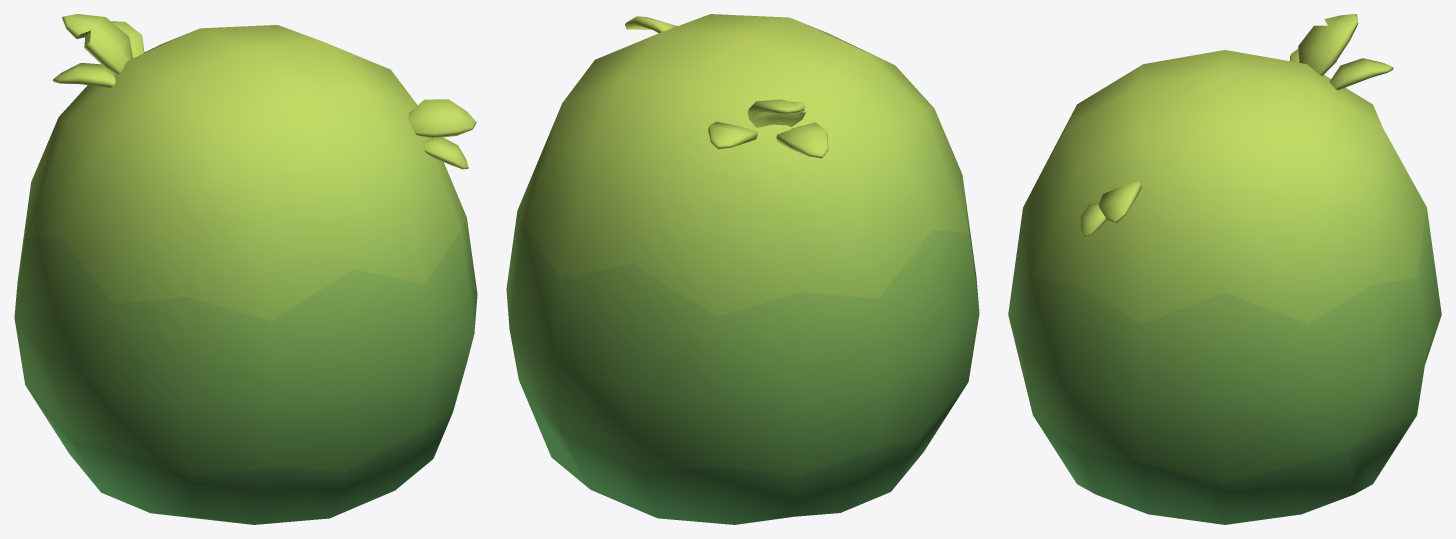
File: bush 01_toon_material_0.001.glb
The picture shows the model from 3 angles, left to right: view 1: azimuth 30°, elevation 25°; view 2: azimuth 150°, elevation 25°; view 3: azimuth 270°, elevation 25°; orthographic projection. The views are drawn at different scales.
Visible parts, largest first — view 1: bush 01_toon_material_0.001; view 2: bush 01_toon_material_0.001; view 3: bush 01_toon_material_0.001.
Part boxes in pixels (bbox=[...]): bush 01_toon_material_0.001: bbox=[14, 14, 477, 524]; bush 01_toon_material_0.001: bbox=[506, 14, 979, 524]; bush 01_toon_material_0.001: bbox=[1008, 14, 1441, 524].
Size of the model in its own units: 1.68 by 1.73 by 1.68.
1 material, 1 textured.
